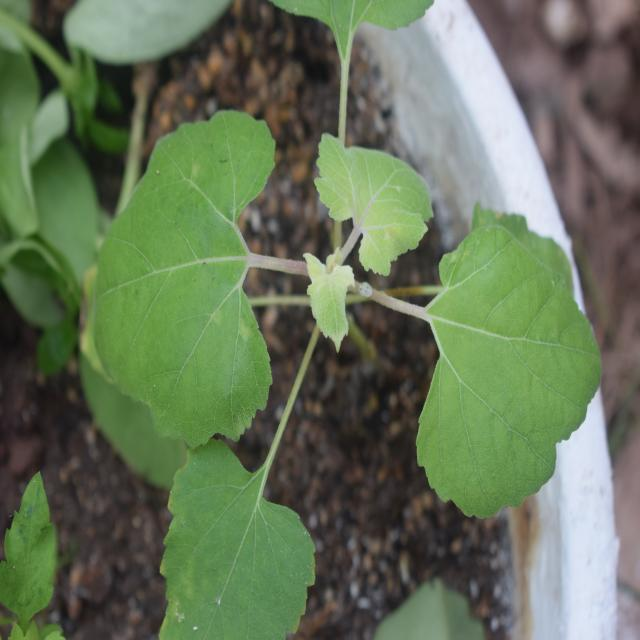cocklebur: (95, 87, 589, 565)
